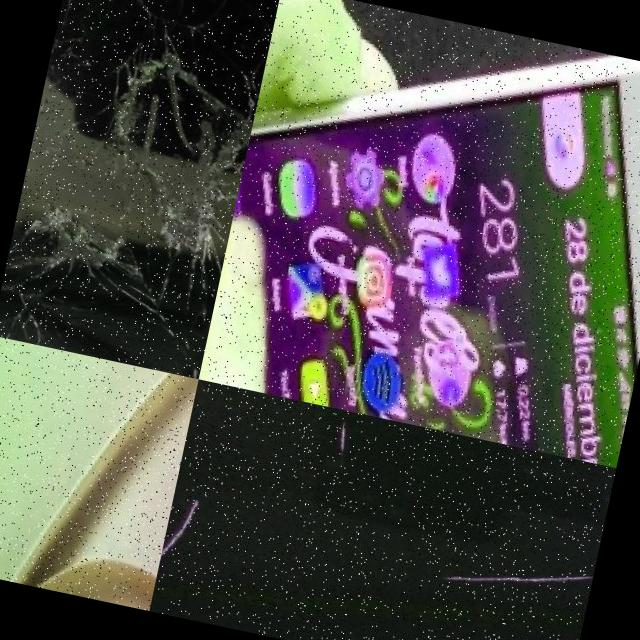scratch: (420, 530, 595, 614), (314, 412, 354, 471)
screen crack: (0, 0, 281, 378)
